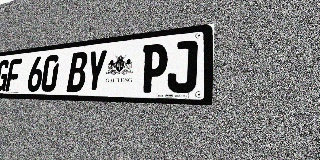0: (40, 54, 60, 92)
6: (26, 56, 45, 92)
B: (66, 51, 89, 92)
F: (5, 58, 22, 92)
G: (0, 59, 10, 91)
J: (167, 40, 198, 93)
P: (140, 43, 169, 93)
Y: (84, 49, 108, 92)
